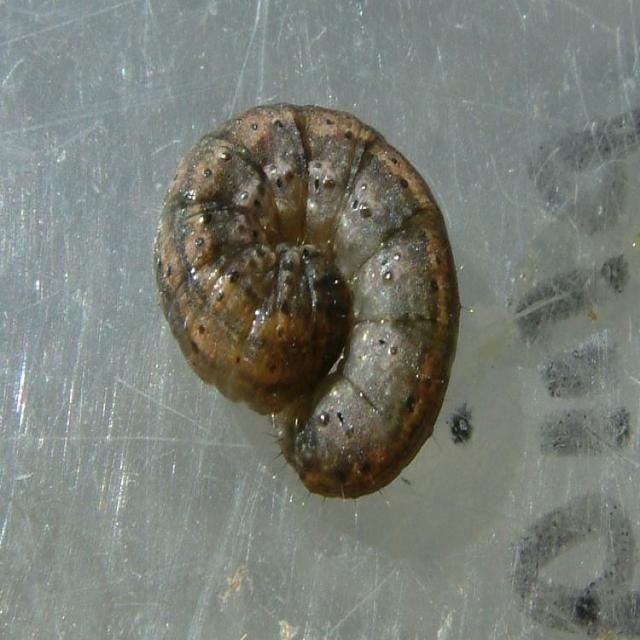worm: (153, 101, 463, 501)
